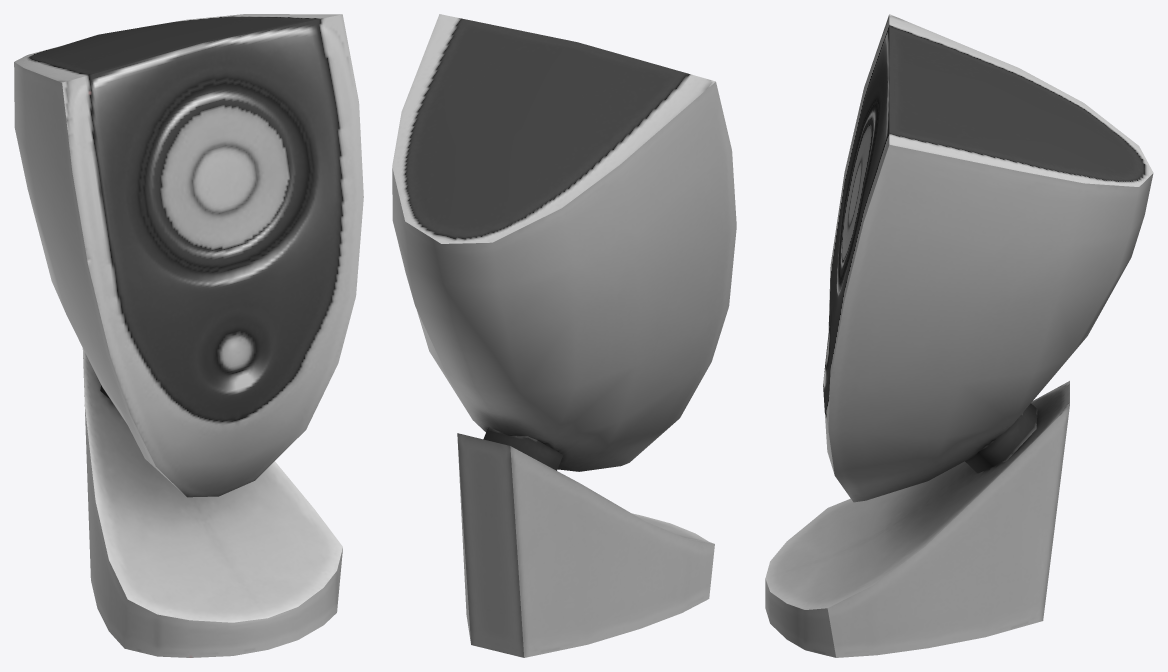
The model's file is SpeakerB.FBX.
3 renders of one model, left to right at view 1: azimuth 30°, elevation 25°; view 2: azimuth 150°, elevation 25°; view 3: azimuth 270°, elevation 25°, orthographic. The views are drawn at different scales.
Parts seen in each view (by area): view 1: SpeakerB; view 2: SpeakerB; view 3: SpeakerB.
Part boxes in pixels (bbox=[...]): SpeakerB: bbox=[14, 14, 363, 657]; SpeakerB: bbox=[392, 14, 736, 657]; SpeakerB: bbox=[765, 14, 1153, 657].
Bounding box in the file's own units: 5.9 × 7.25 × 11.01.
Materials: 1 (1 with a texture image).
